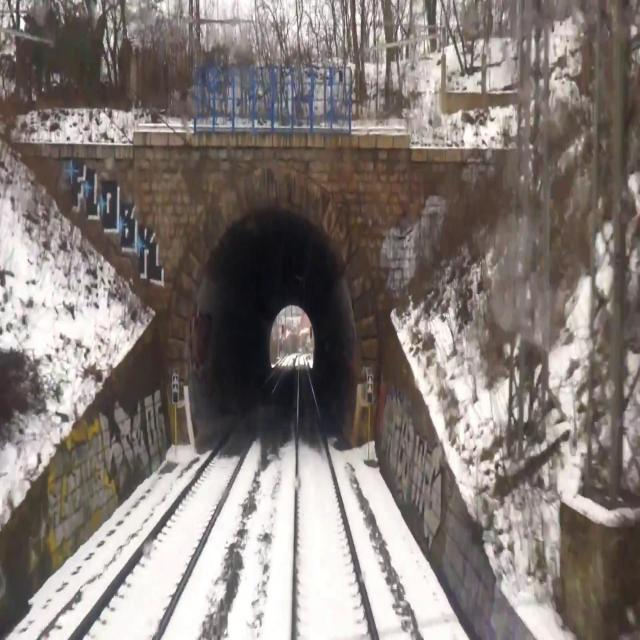rail-track: (74, 361, 285, 639), (297, 355, 373, 639)
